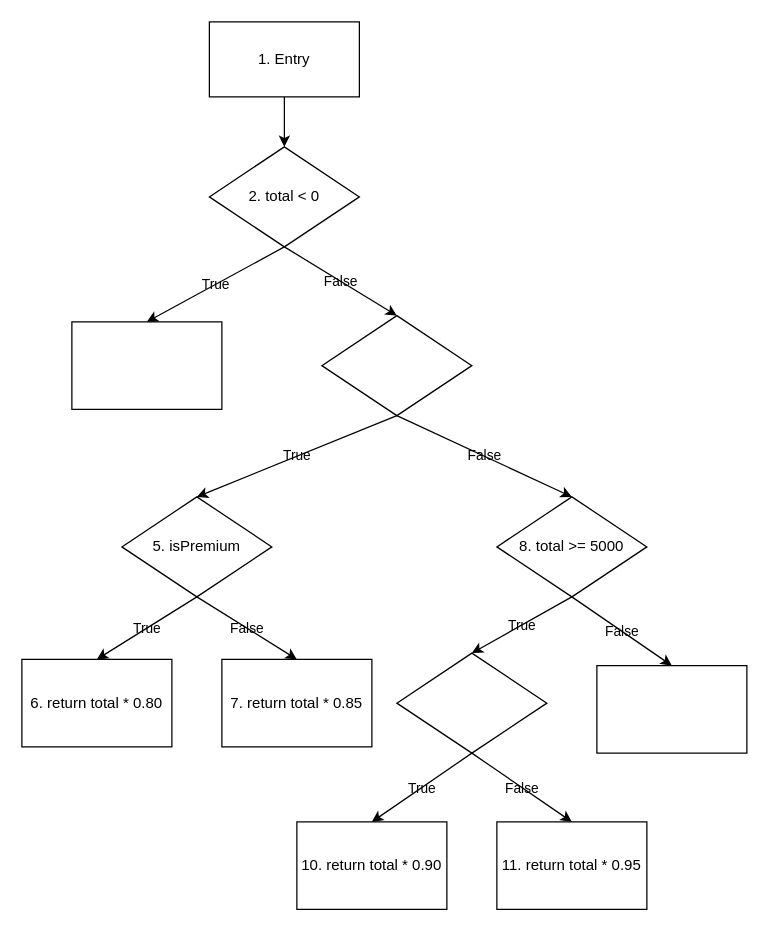
This 769x931 diagram has some shape labels left out. The centre of each missing label's shape, as x and y in pixels:
12. return total * 0.95: point 671,708
3. return -1: point 146,365
4. total >= 10000: point 396,365
9. isPremium: point 471,702
